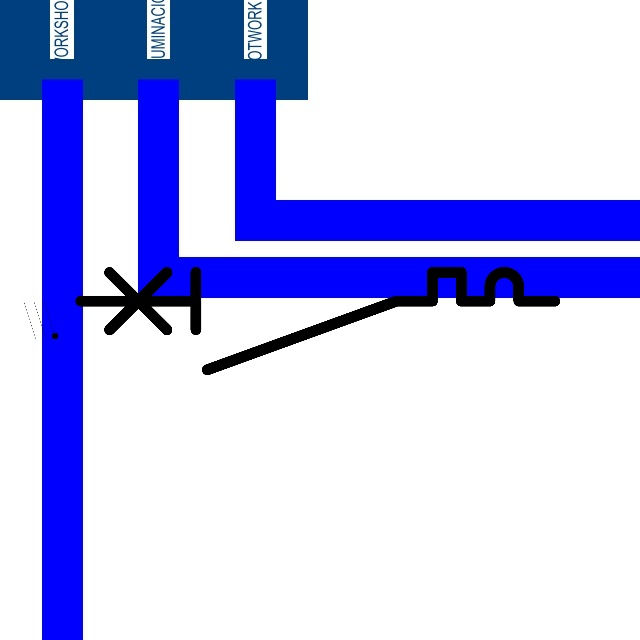interruptor_termomagnetico: (68, 260, 567, 382)
